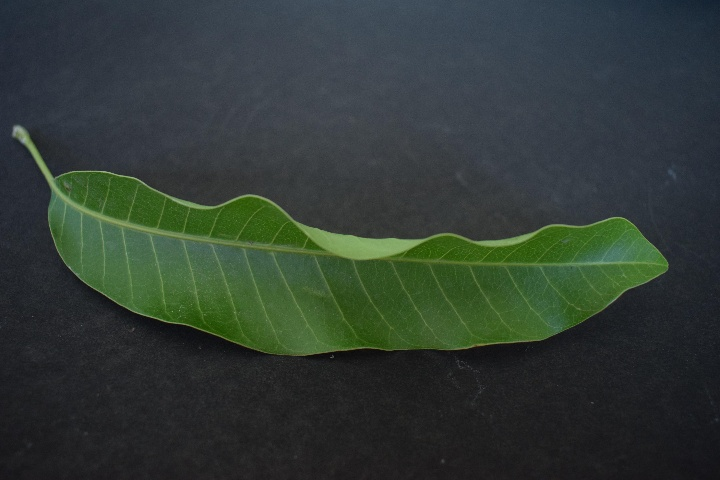healthy: (48, 169, 665, 367)
